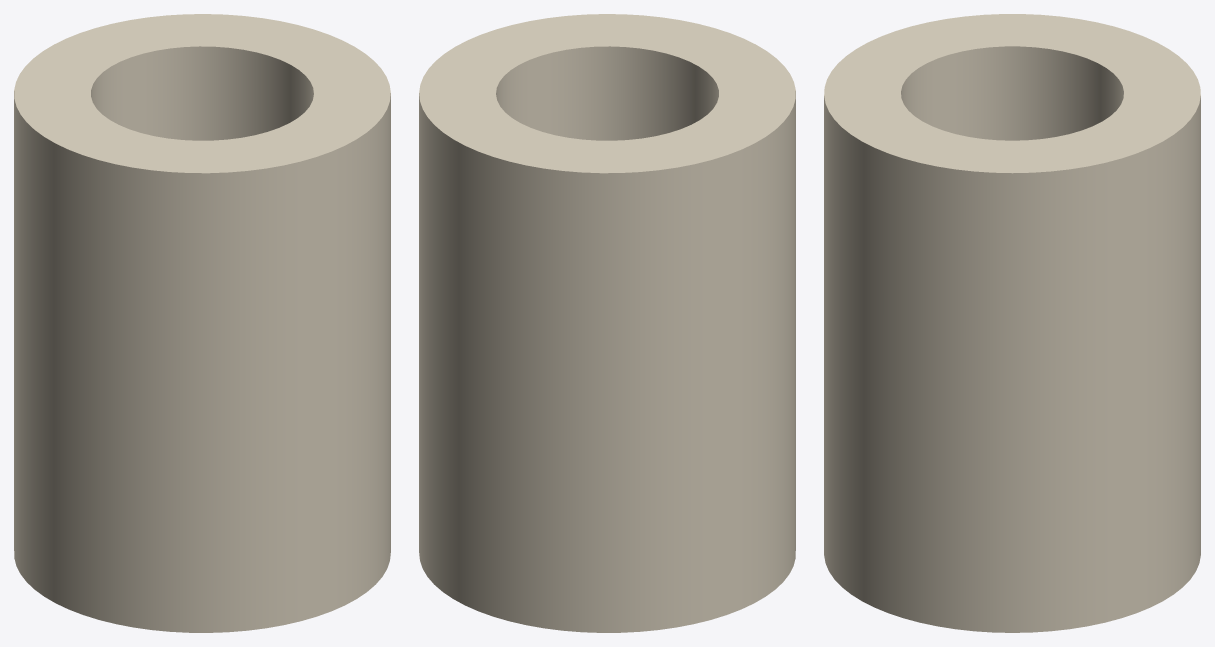
3 renders of one model, left to right at view 1: azimuth 30°, elevation 25°; view 2: azimuth 150°, elevation 25°; view 3: azimuth 270°, elevation 25°, orthographic.
Parts seen in each view (by area): view 1: sleeve; view 2: sleeve; view 3: sleeve.
Part boxes in pixels (x1=…): sleeve: x1=14, y1=14, x2=390, y2=632; sleeve: x1=419, y1=14, x2=795, y2=632; sleeve: x1=824, y1=14, x2=1200, y2=632.
Size of the model in its own units: 0.0742 by 0.1 by 0.0743.
